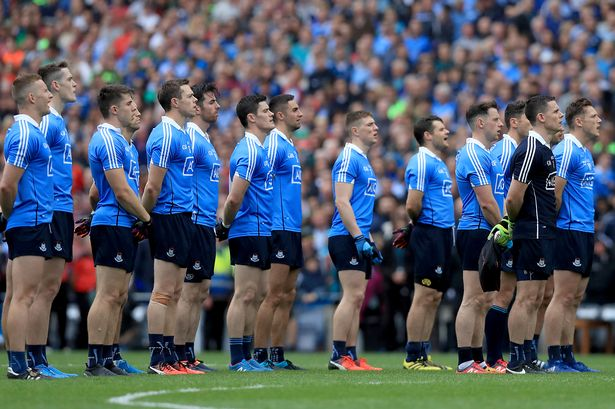player: (4, 68, 58, 367), (89, 77, 152, 326), (459, 93, 512, 331), (406, 110, 462, 331), (232, 84, 279, 343), (515, 89, 563, 319), (336, 105, 382, 342), (560, 77, 595, 328), (273, 87, 304, 340)
